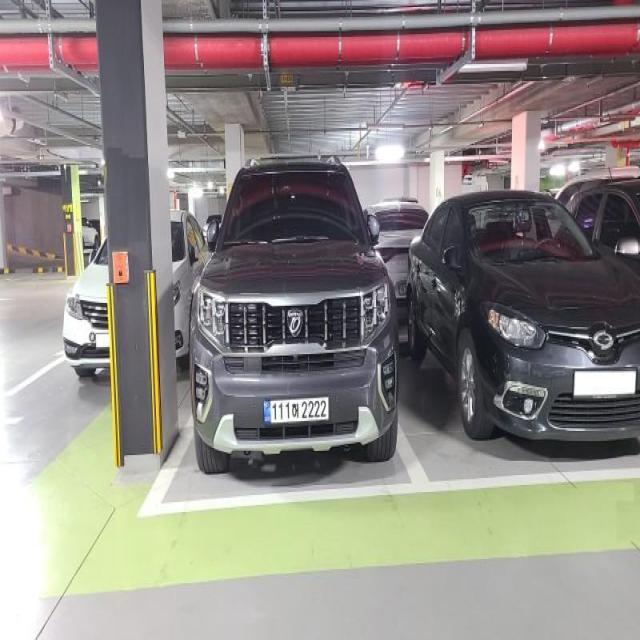car: (182, 128, 406, 488)
illegal_plate: (261, 397, 329, 432)
